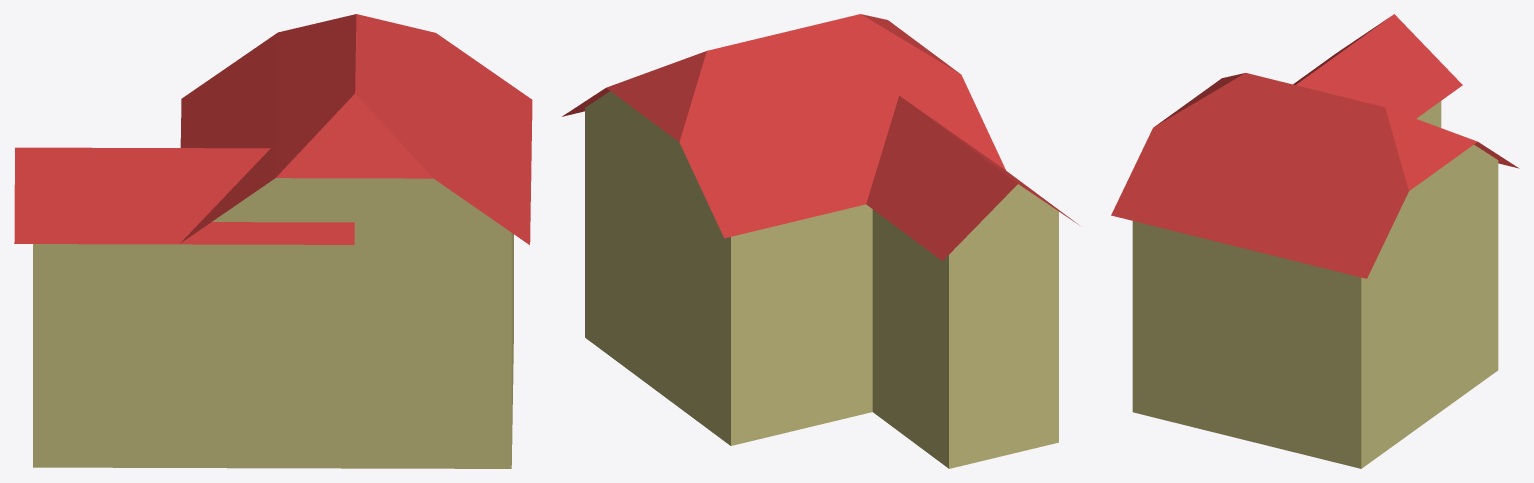
3 views of the same model, side by side, from view 1: azimuth 30°, elevation 25°; view 2: azimuth 150°, elevation 25°; view 3: azimuth 270°, elevation 25° (orthographic). The views are drawn at different scales.
Size of the model in its own units: 25.15 by 19.29 by 15.68.
